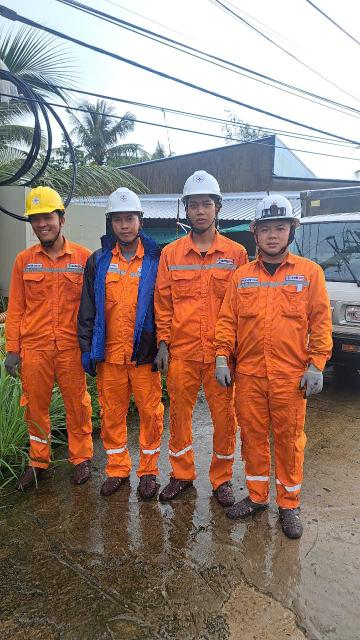gloves: (206, 342, 241, 393), (70, 339, 110, 376), (0, 343, 37, 382), (146, 339, 174, 381), (298, 362, 324, 403)
helmet: (178, 164, 233, 211), (246, 196, 309, 236), (92, 187, 156, 222), (13, 182, 74, 218)
shoes: (275, 498, 313, 545), (62, 456, 104, 497), (14, 455, 53, 496), (226, 494, 270, 530), (133, 464, 165, 513), (160, 468, 199, 508), (102, 468, 133, 512), (206, 474, 243, 509)
